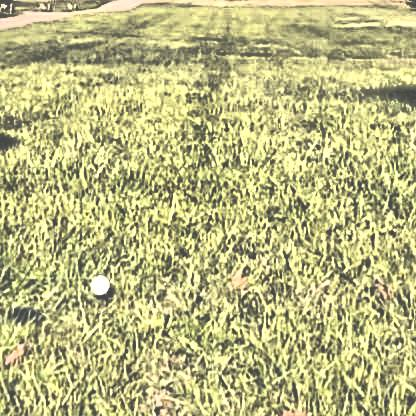golfball: (88, 271, 109, 292)
